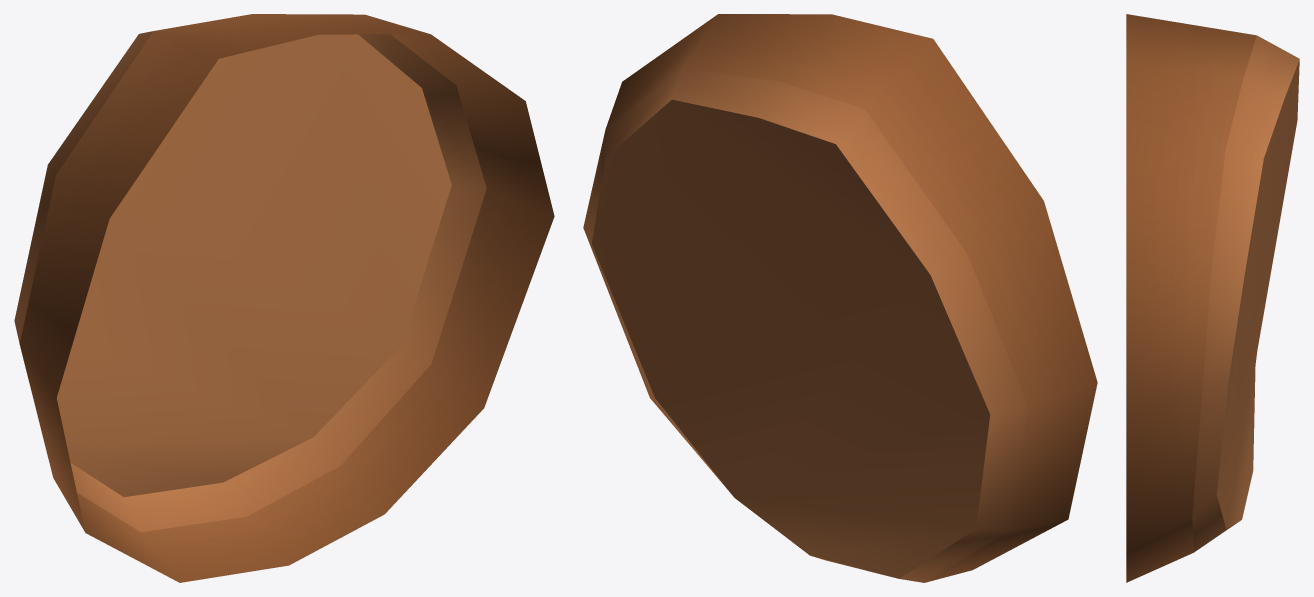
File: Rock 01.FBX
3 renders of one model, left to right at view 1: azimuth 30°, elevation 25°; view 2: azimuth 150°, elevation 25°; view 3: azimuth 270°, elevation 25°, orthographic. The views are drawn at different scales.
Parts seen in each view (by area): view 1: Rock 01; view 2: Rock 01; view 3: Rock 01.
Part boxes in pixels (left/top/right/bottom): Rock 01: left=14, top=14, right=554, bottom=582; Rock 01: left=583, top=14, right=1097, bottom=582; Rock 01: left=1126, top=14, right=1299, bottom=582.
Size of the model in its own units: 283 by 285 by 86.66.
1 material, 1 textured.
